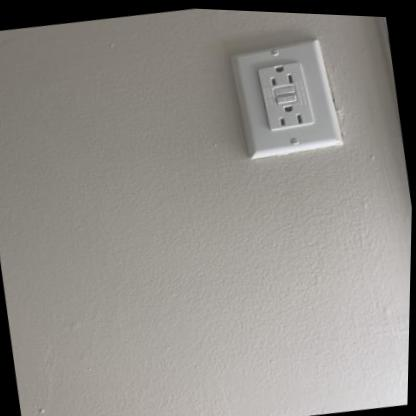OUTLET: (226, 35, 344, 159)
